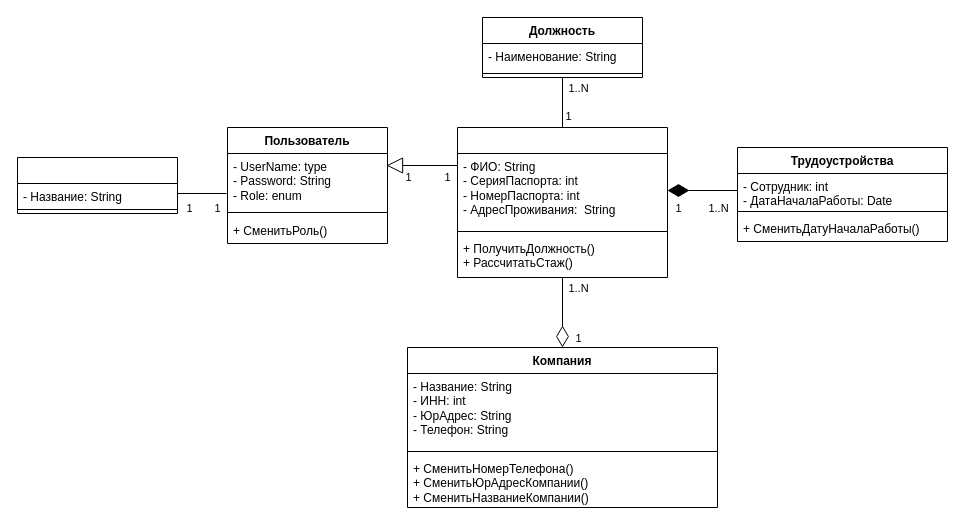
Image size: 965x528. Some labels were removed from this diagram. The shapes that lost their labels are listed below. From the top down, each one's box as (x1, y1, x2, y2) in pixels, then its label:
(16, 156, 178, 214): Роль: enum
(456, 126, 668, 278): Сотрудник
